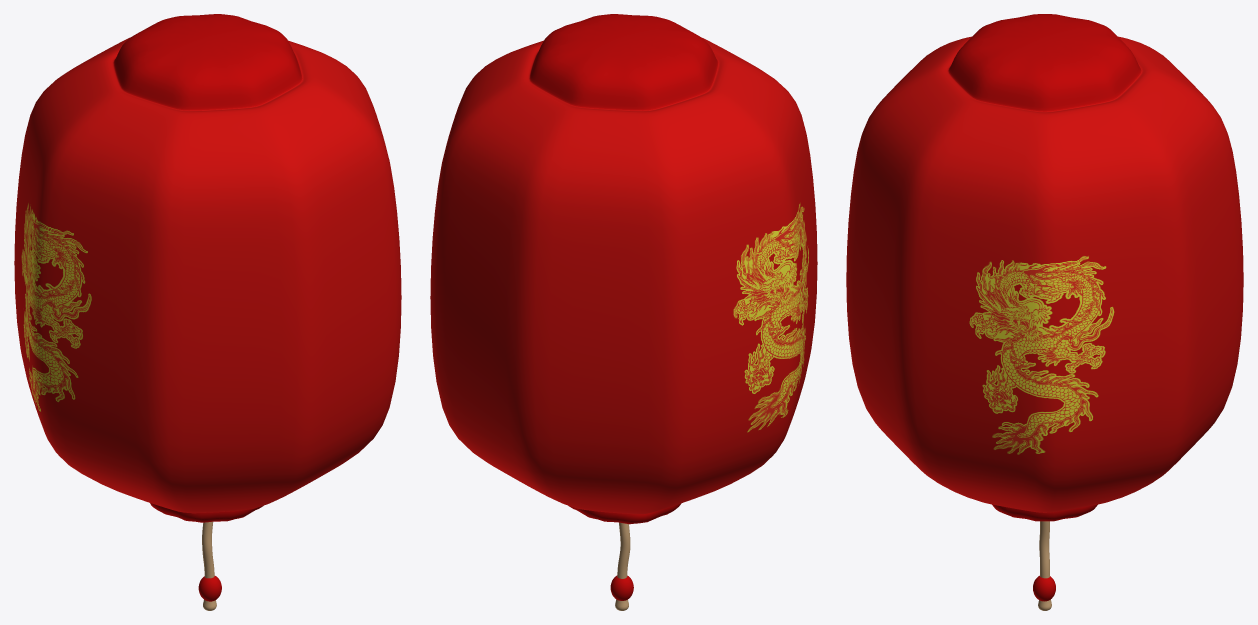
File: 3D_Balloon.fbx
The picture shows the model from 3 angles, left to right: view 1: azimuth 30°, elevation 25°; view 2: azimuth 150°, elevation 25°; view 3: azimuth 270°, elevation 25°; orthographic projection.
Visible parts, largest first — view 1: Balloon; view 2: Balloon; view 3: Balloon.
Part boxes in pixels (bbox=[...]): Balloon: bbox=[14, 14, 401, 610]; Balloon: bbox=[430, 14, 817, 610]; Balloon: bbox=[846, 14, 1243, 610].
Bounding box in the file's own units: 209 × 332 × 209.
4 materials, 1 textured.
